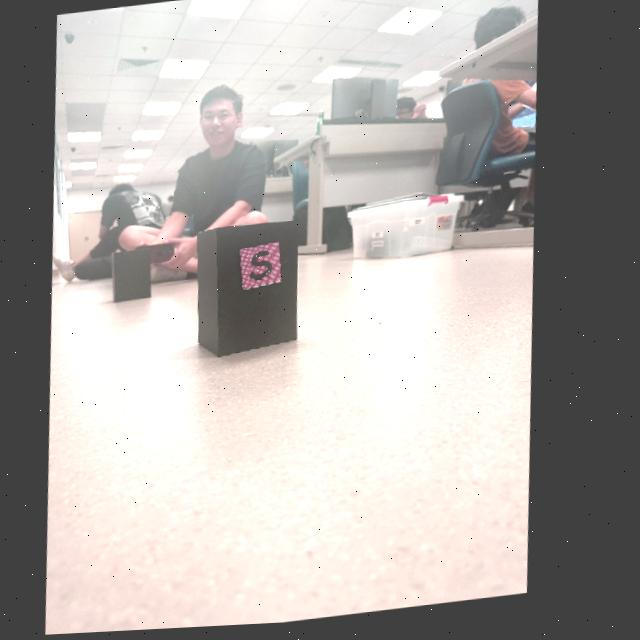S: (255, 254, 278, 282)
